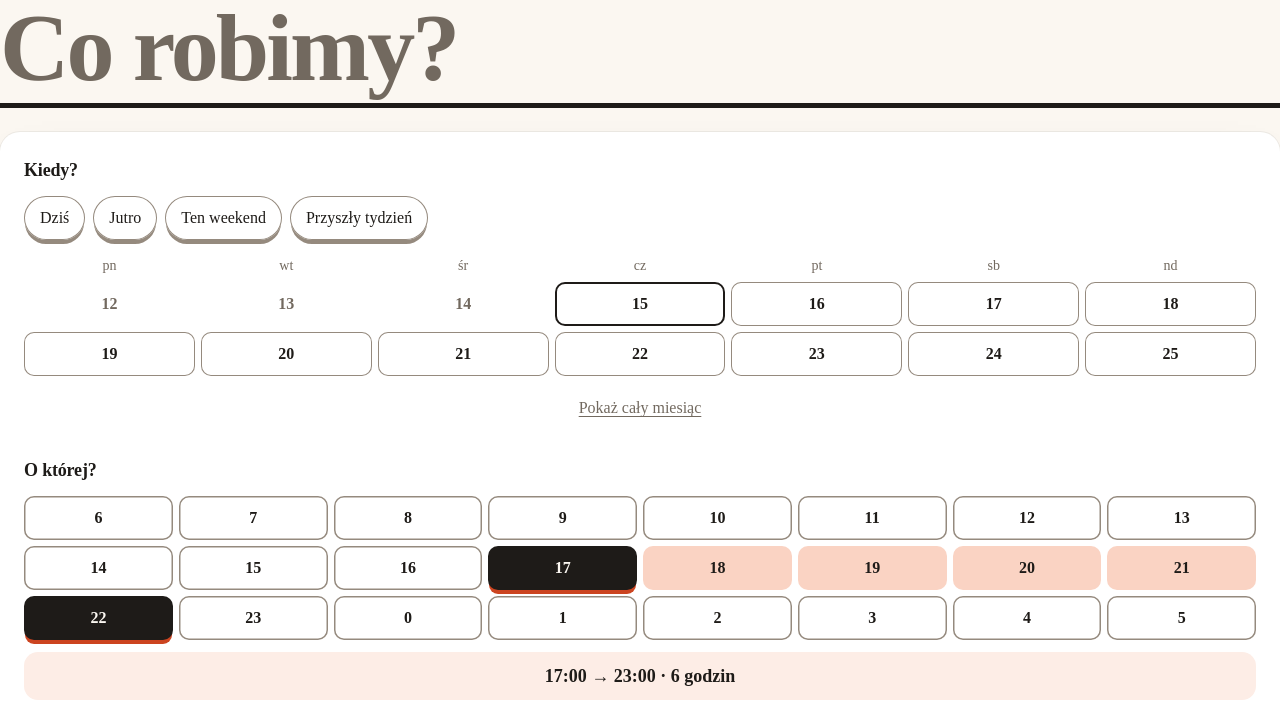
Scenario: Kiedy? › Ten weekend selects Friday to Sunday and lights up
Click the button "Ten weekend": (224, 218) 165,196 -> 282,240
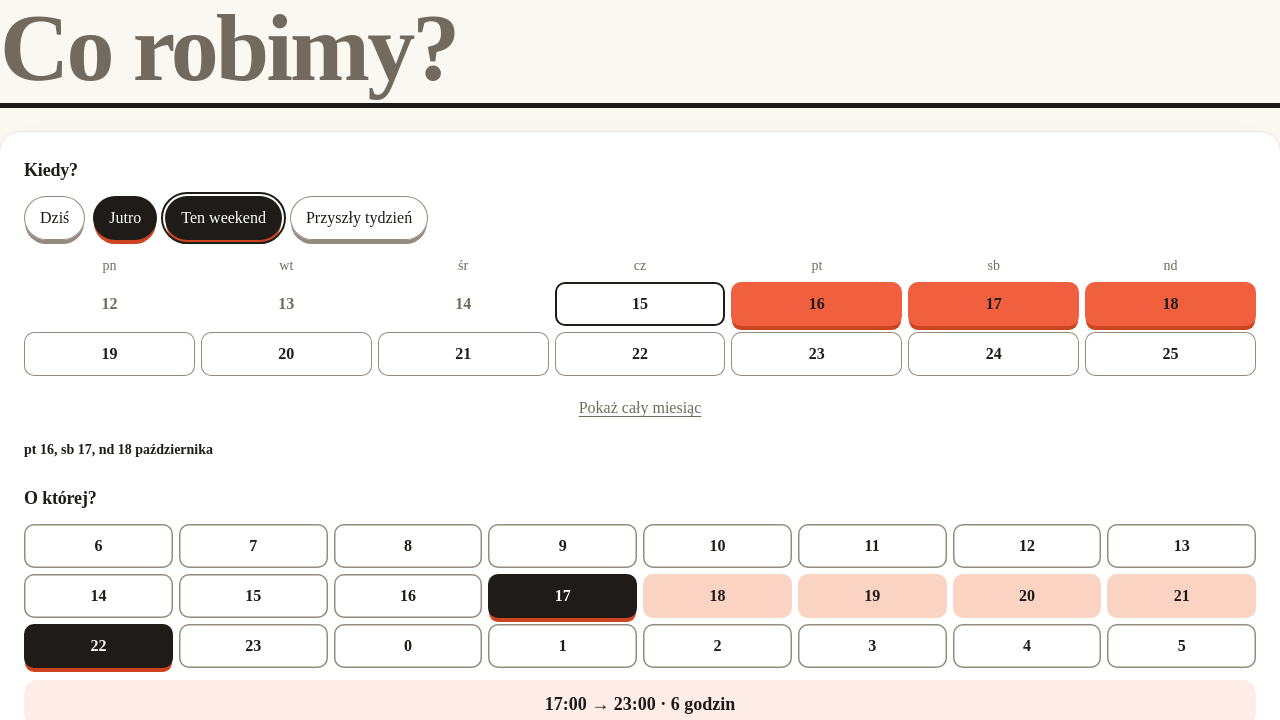
Expected: the text "pt 16, sb 17, nd 18 października" is shown, 24,442 -> 213,457
